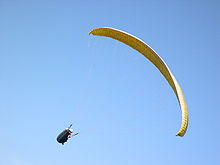Paraglider: (88, 25, 191, 140)
